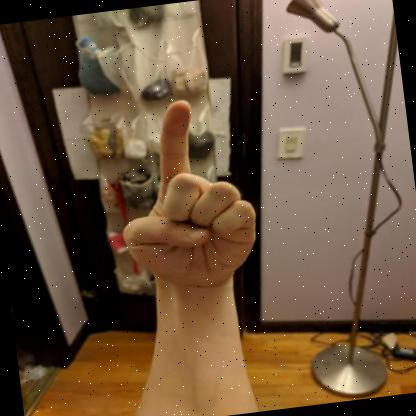D: (122, 99, 255, 288)
